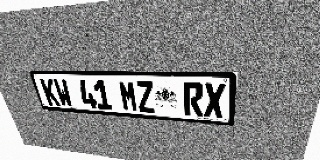1: (91, 80, 113, 110)
4: (77, 79, 98, 109)
K: (39, 79, 61, 106)
M: (118, 80, 139, 112)
R: (183, 82, 203, 117)
W: (52, 79, 74, 107)
X: (204, 83, 226, 118)
Z: (135, 81, 156, 113)
